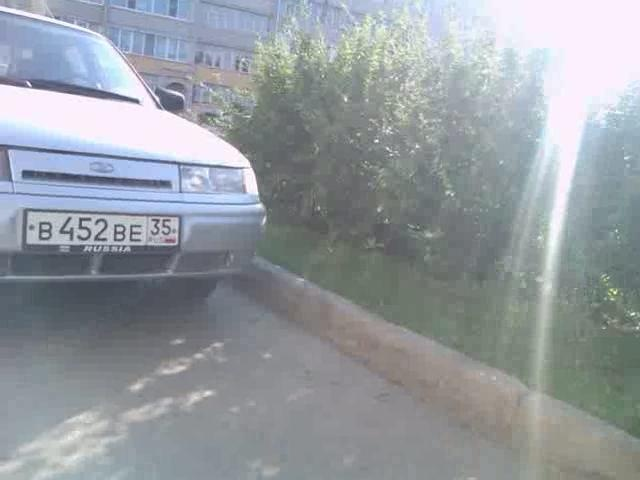car license plate: (22, 211, 182, 258)
